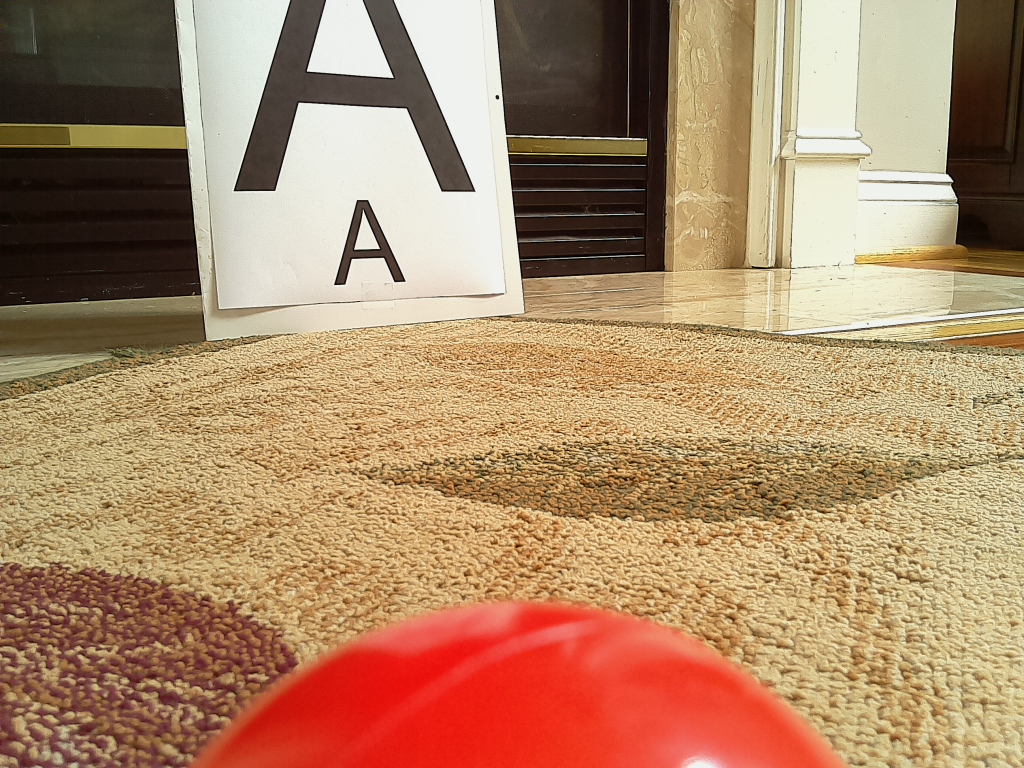letter: (336, 201, 407, 284)
